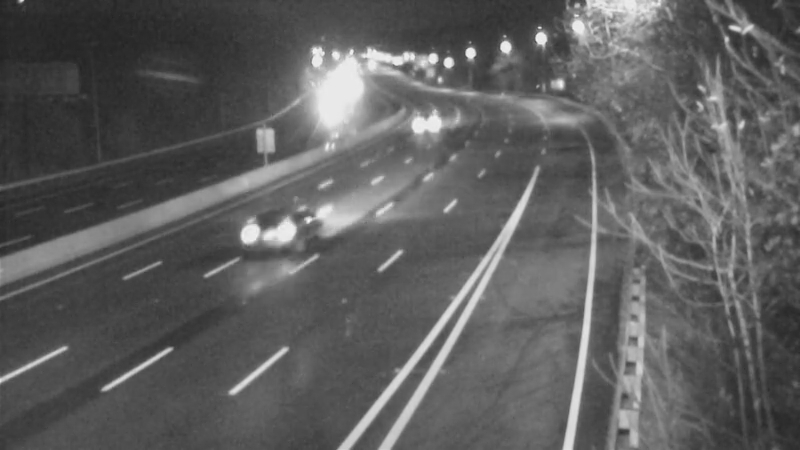vehicle: (224, 194, 304, 274), (401, 94, 451, 144), (309, 83, 359, 133)
